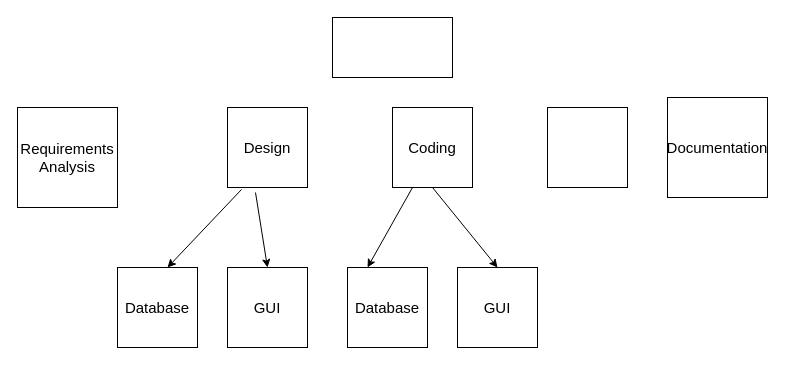
Some shapes in this 785 by 365 pixel diagram are drawn without their labels. Here are the shapes that lost their labels. From the top down, the centre of each, then its label:
point 392,47: RRTS Application
point 587,147: Testing
